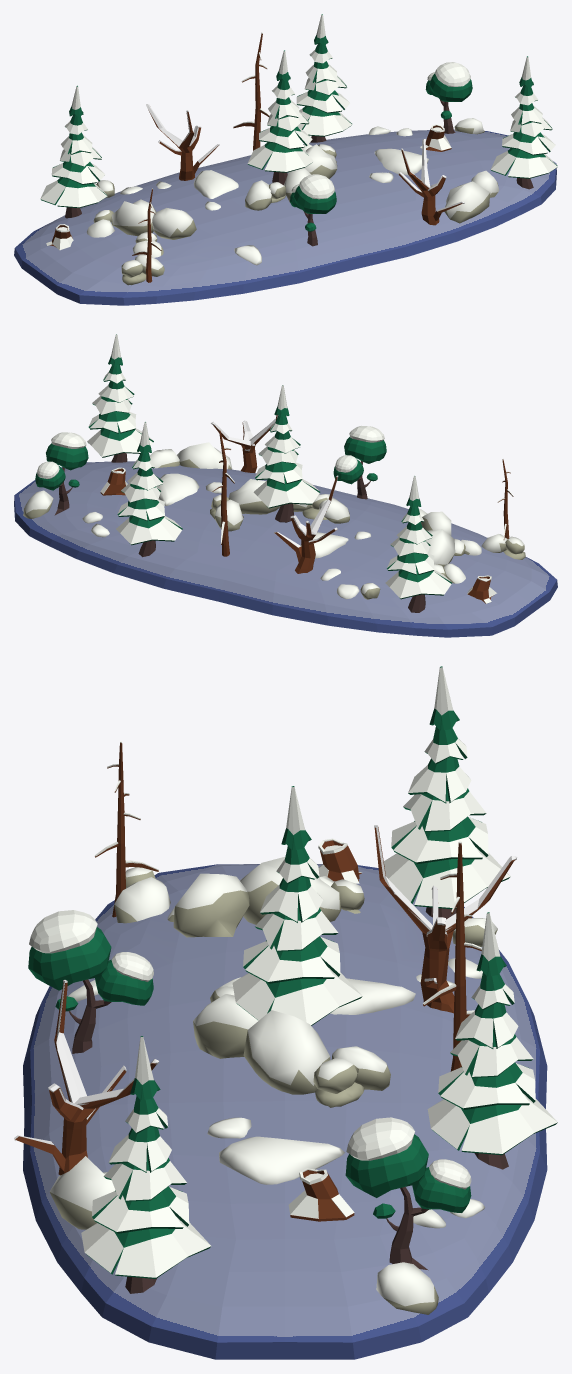
Rendered from Winter_wall.fbx.
The picture shows the model from 3 angles, top to bottom: view 1: azimuth 30°, elevation 25°; view 2: azimuth 150°, elevation 25°; view 3: azimuth 270°, elevation 25°; orthographic projection. The views are drawn at different scales.
Parts seen in each view (by area): view 1: Tree.185; view 2: Tree.185; view 3: Tree.185.
Boxes of the visible parts, x1,y1,x2,y2 form: Tree.185: (14,14,557,305); Tree.185: (14,334,557,637); Tree.185: (14,666,557,1359).
Bounding box in the file's own units: 6325 × 2045 × 3041.
